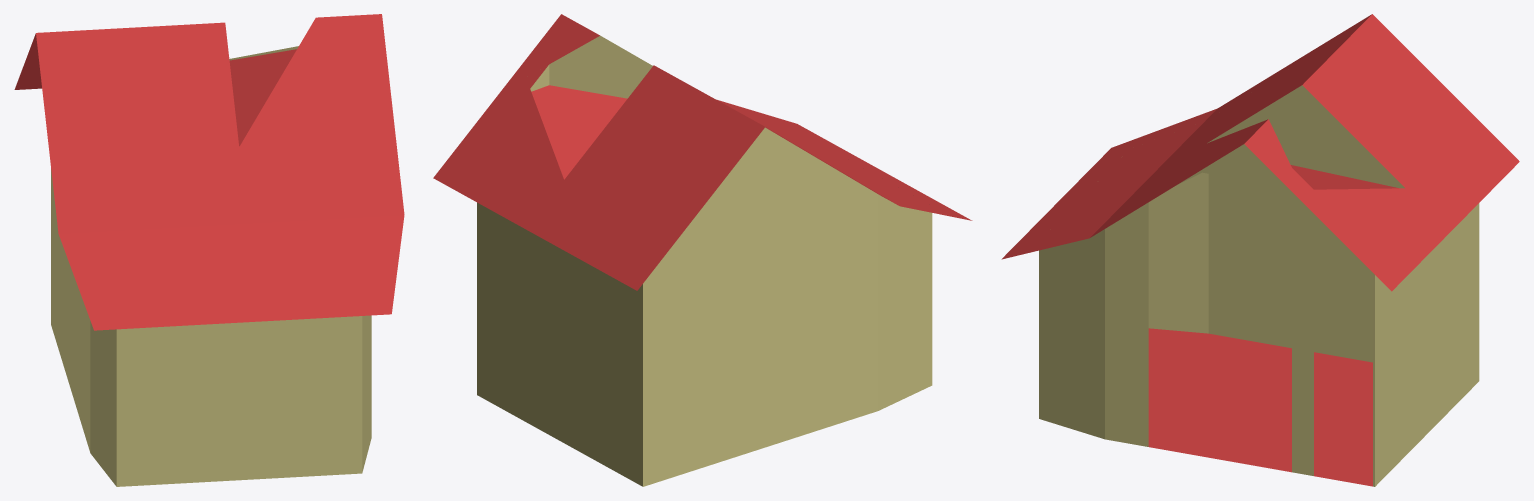
3 views of the same model, side by side, from view 1: azimuth 30°, elevation 25°; view 2: azimuth 150°, elevation 25°; view 3: azimuth 270°, elevation 25° (orthographic). The views are drawn at different scales.
Size of the model in its own units: 14.65 by 16.68 by 11.85.
